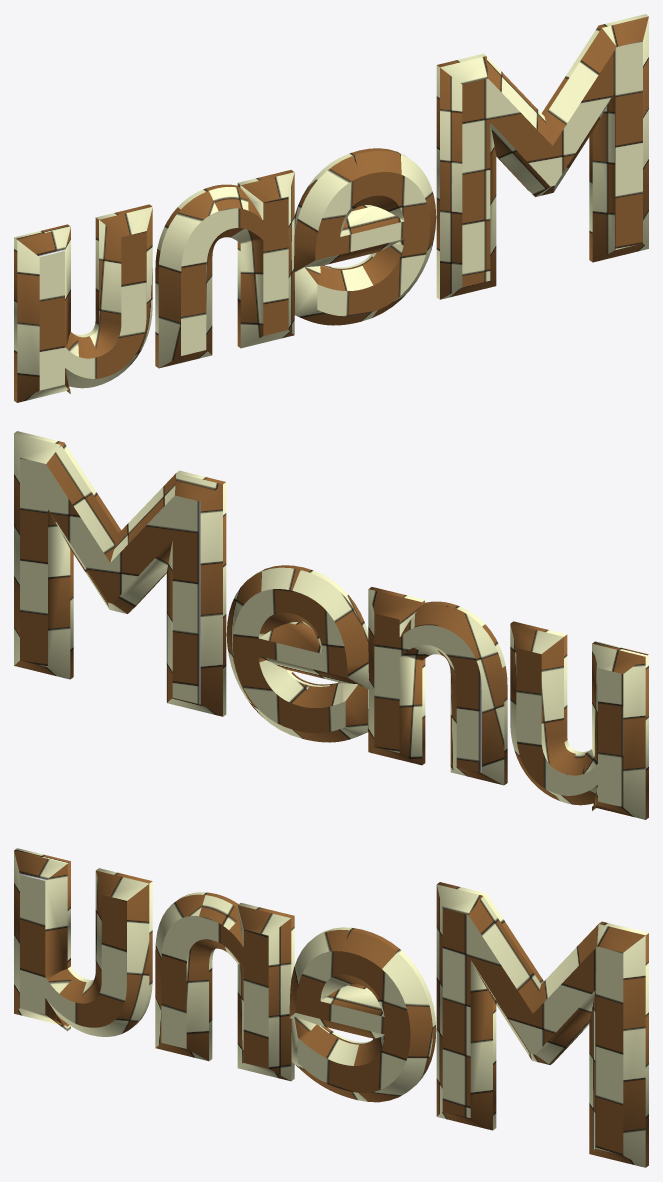
Rendered from menu.dae.
3 views of the same model, one above another, from view 1: azimuth 30°, elevation 25°; view 2: azimuth 150°, elevation 25°; view 3: azimuth 330°, elevation 25° (orthographic).
Parts seen in each view (by area): view 1: Text; view 2: Text; view 3: Text.
Boxes of the visible parts, x1,y1,x2,y2 form: Text: (14, 14, 648, 402); Text: (14, 431, 648, 819); Text: (14, 848, 648, 1167).
Size of the model in its own units: 57.58 by 3.11 by 20.64.
Materials: 1 (1 with a texture image).
